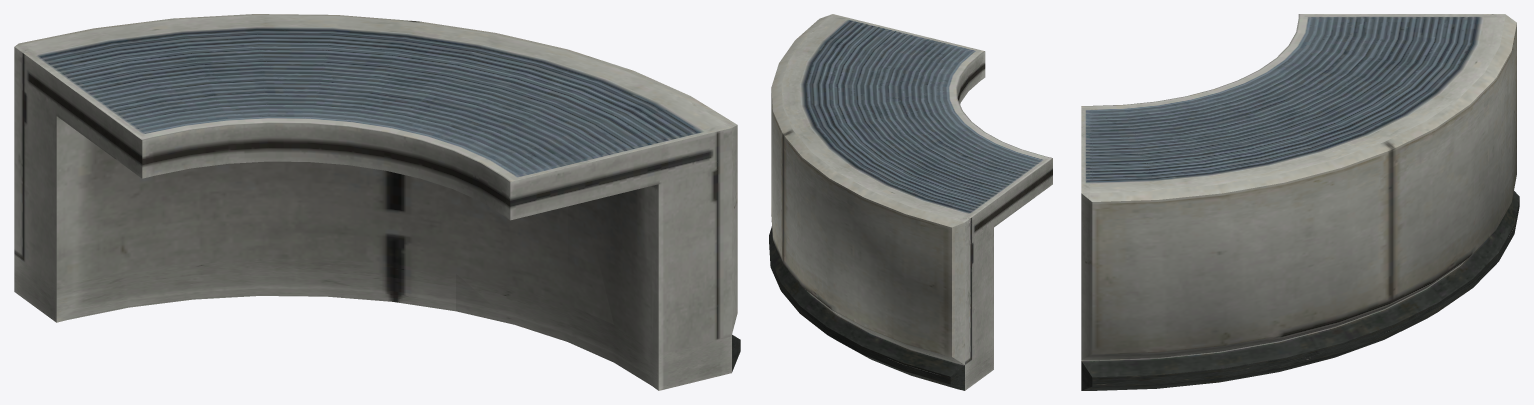
File: Neon_CounterCrv_Out_01.FBX
The picture shows the model from 3 angles, left to right: view 1: azimuth 30°, elevation 25°; view 2: azimuth 150°, elevation 25°; view 3: azimuth 270°, elevation 25°; orthographic projection. The views are drawn at different scales.
Visible parts, largest first — view 1: Neon_CounterCrv_Out_01; view 2: Neon_CounterCrv_Out_01; view 3: Neon_CounterCrv_Out_01.
Part boxes in pixels (<box>): Neon_CounterCrv_Out_01: <box>14,14,740,390</box>; Neon_CounterCrv_Out_01: <box>769,14,1052,390</box>; Neon_CounterCrv_Out_01: <box>1081,14,1519,390</box>.
Bounding box in the file's own units: 2.01 × 0.9999 × 2.01.
